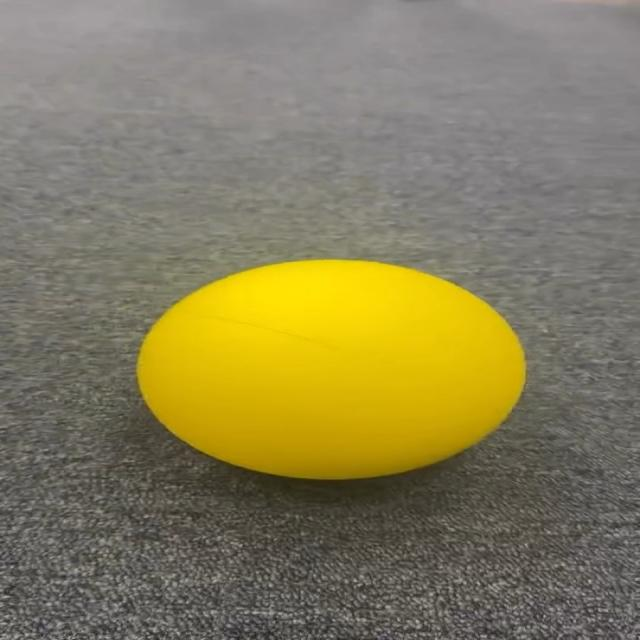Fuels: (134, 255, 523, 475)
